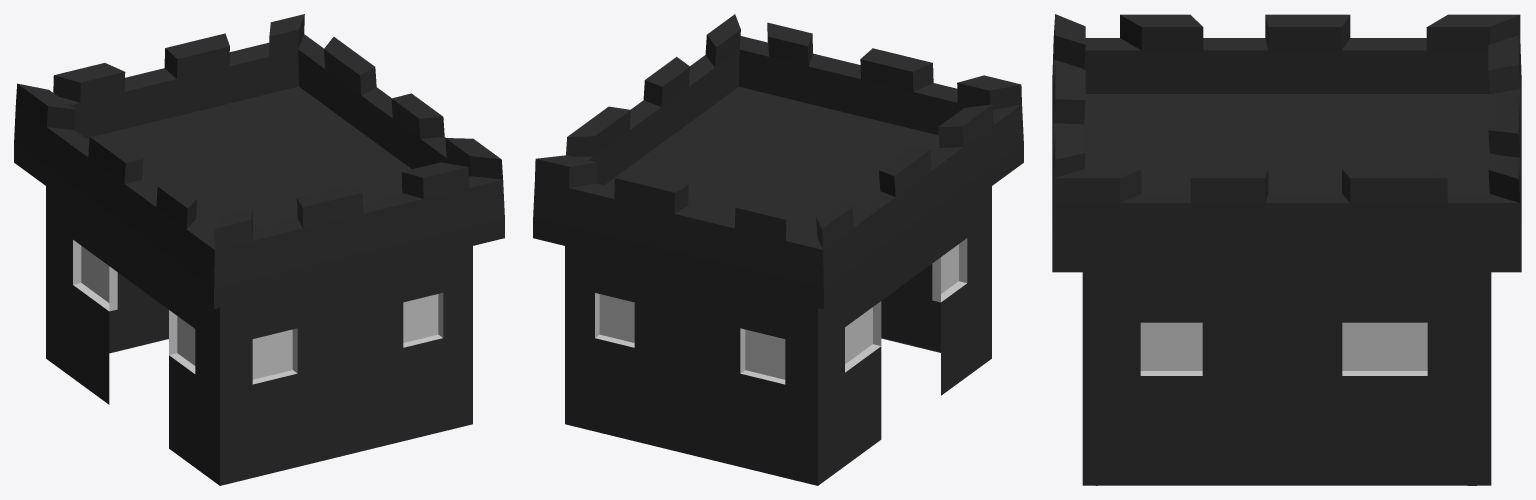
The model's file is centre_tower_piece.fbx.
The picture shows the model from 3 angles, left to right: view 1: azimuth 30°, elevation 25°; view 2: azimuth 150°, elevation 25°; view 3: azimuth 270°, elevation 25°; orthographic projection. The views are drawn at different scales.
Parts seen in each view (by area): view 1: pCube5; view 2: pCube5; view 3: pCube5.
Boxes of the visible parts, x1,y1,x2,y2 form: pCube5: (14, 14, 504, 485); pCube5: (533, 14, 1023, 485); pCube5: (1052, 14, 1521, 485).
Size of the model in its own units: 1513 by 1345 by 1803.
